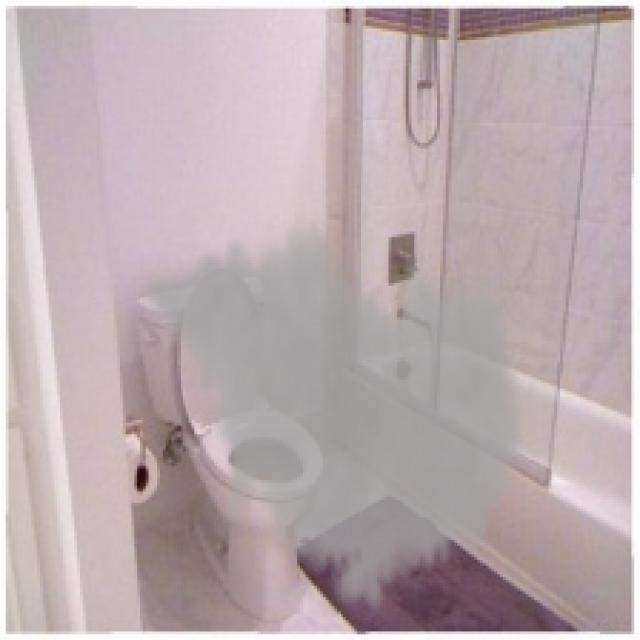Smoke: (140, 208, 529, 620)
